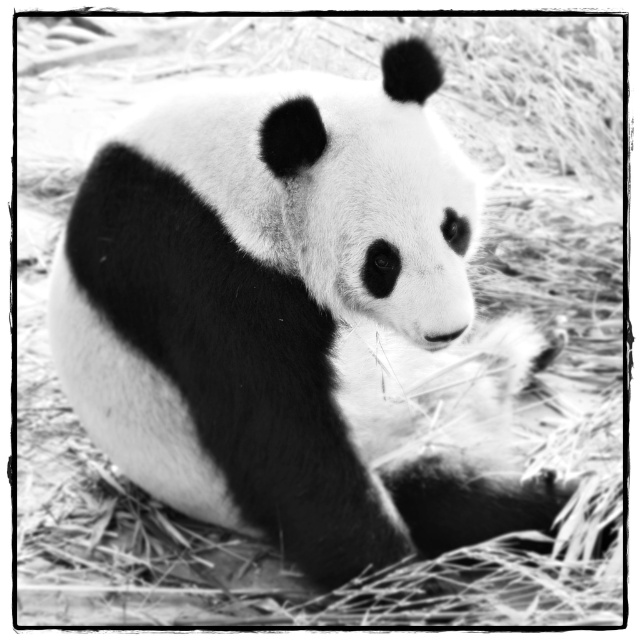Panda: (50, 41, 616, 611)
